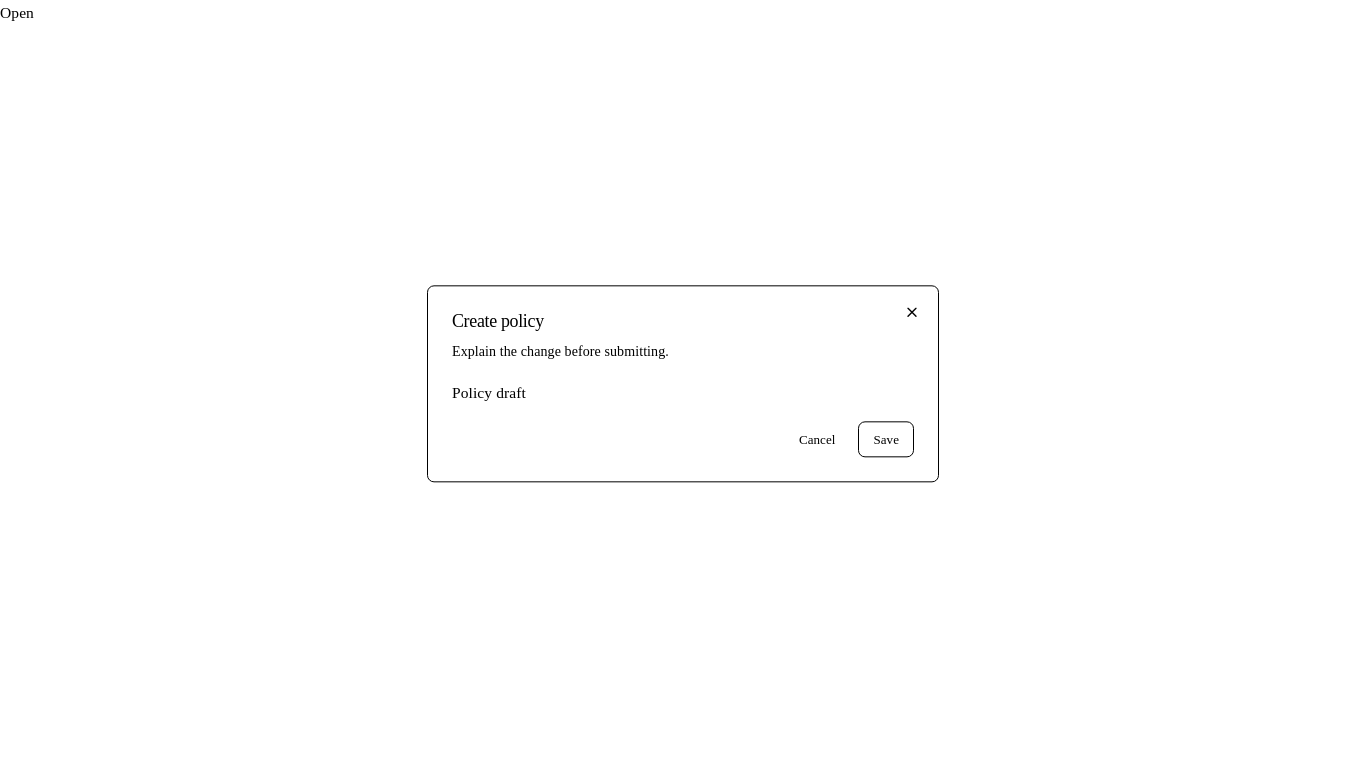
Test case: FormDialog › surfaces submission errors inline without relying on toast-only feedback
This screenshot has width=1366, height=768.
Click the button "Save": (886, 440) [858, 422, 914, 458]
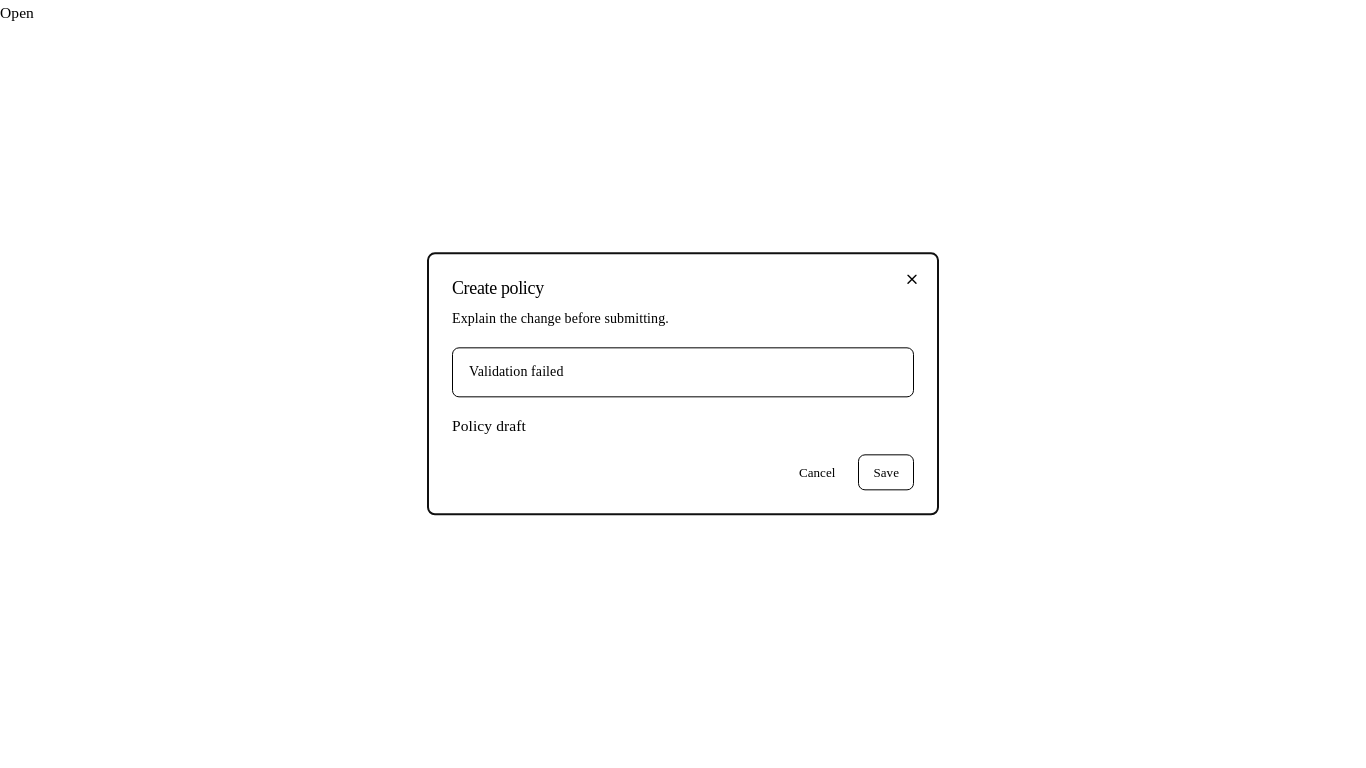
Check: the message with test id "policy-form-dialog__error" reads "Validation failed", box [469, 365, 564, 380]
